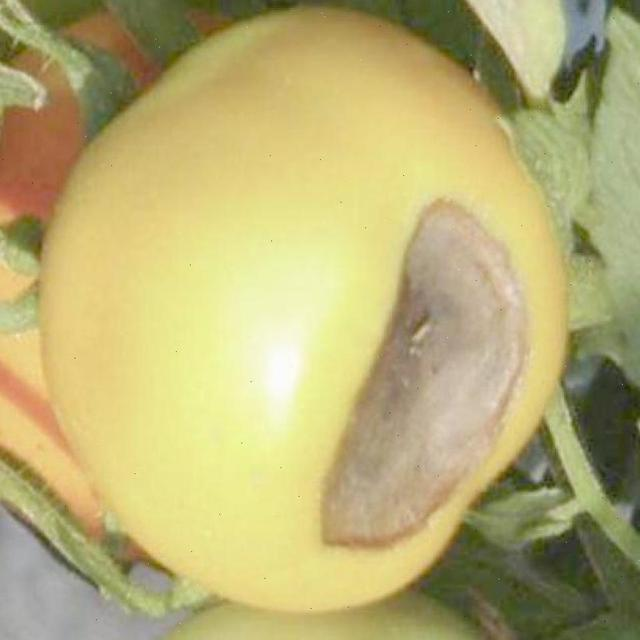Blossom End Rot Fruit: (200, 117, 369, 378)
